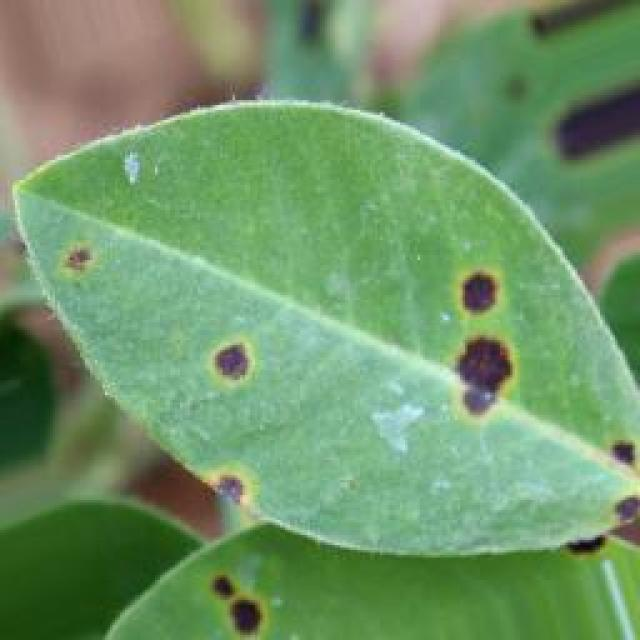Early_leaf_spot: (428, 259, 540, 424), (189, 443, 291, 533), (182, 545, 272, 640), (186, 323, 268, 412), (588, 414, 640, 520), (66, 228, 110, 283)
